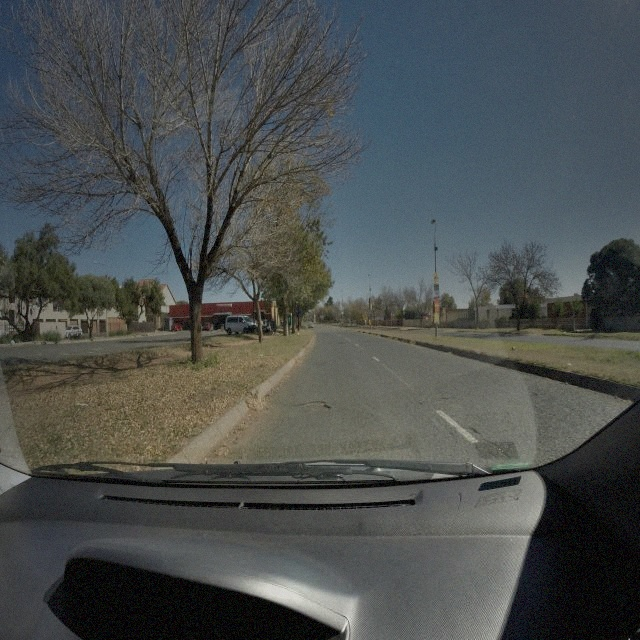pothole: (305, 400, 331, 413), (466, 425, 478, 436)
